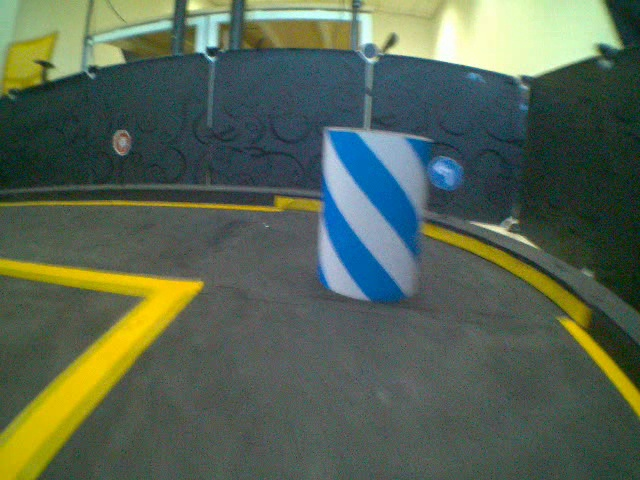bucket: (317, 127, 423, 303)
